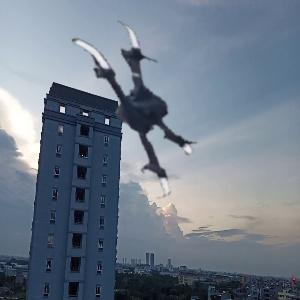drone: (34, 24, 214, 204)
